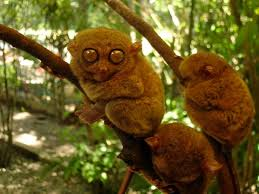tarsier: (60, 25, 159, 130), (177, 50, 254, 145), (150, 124, 221, 194)
